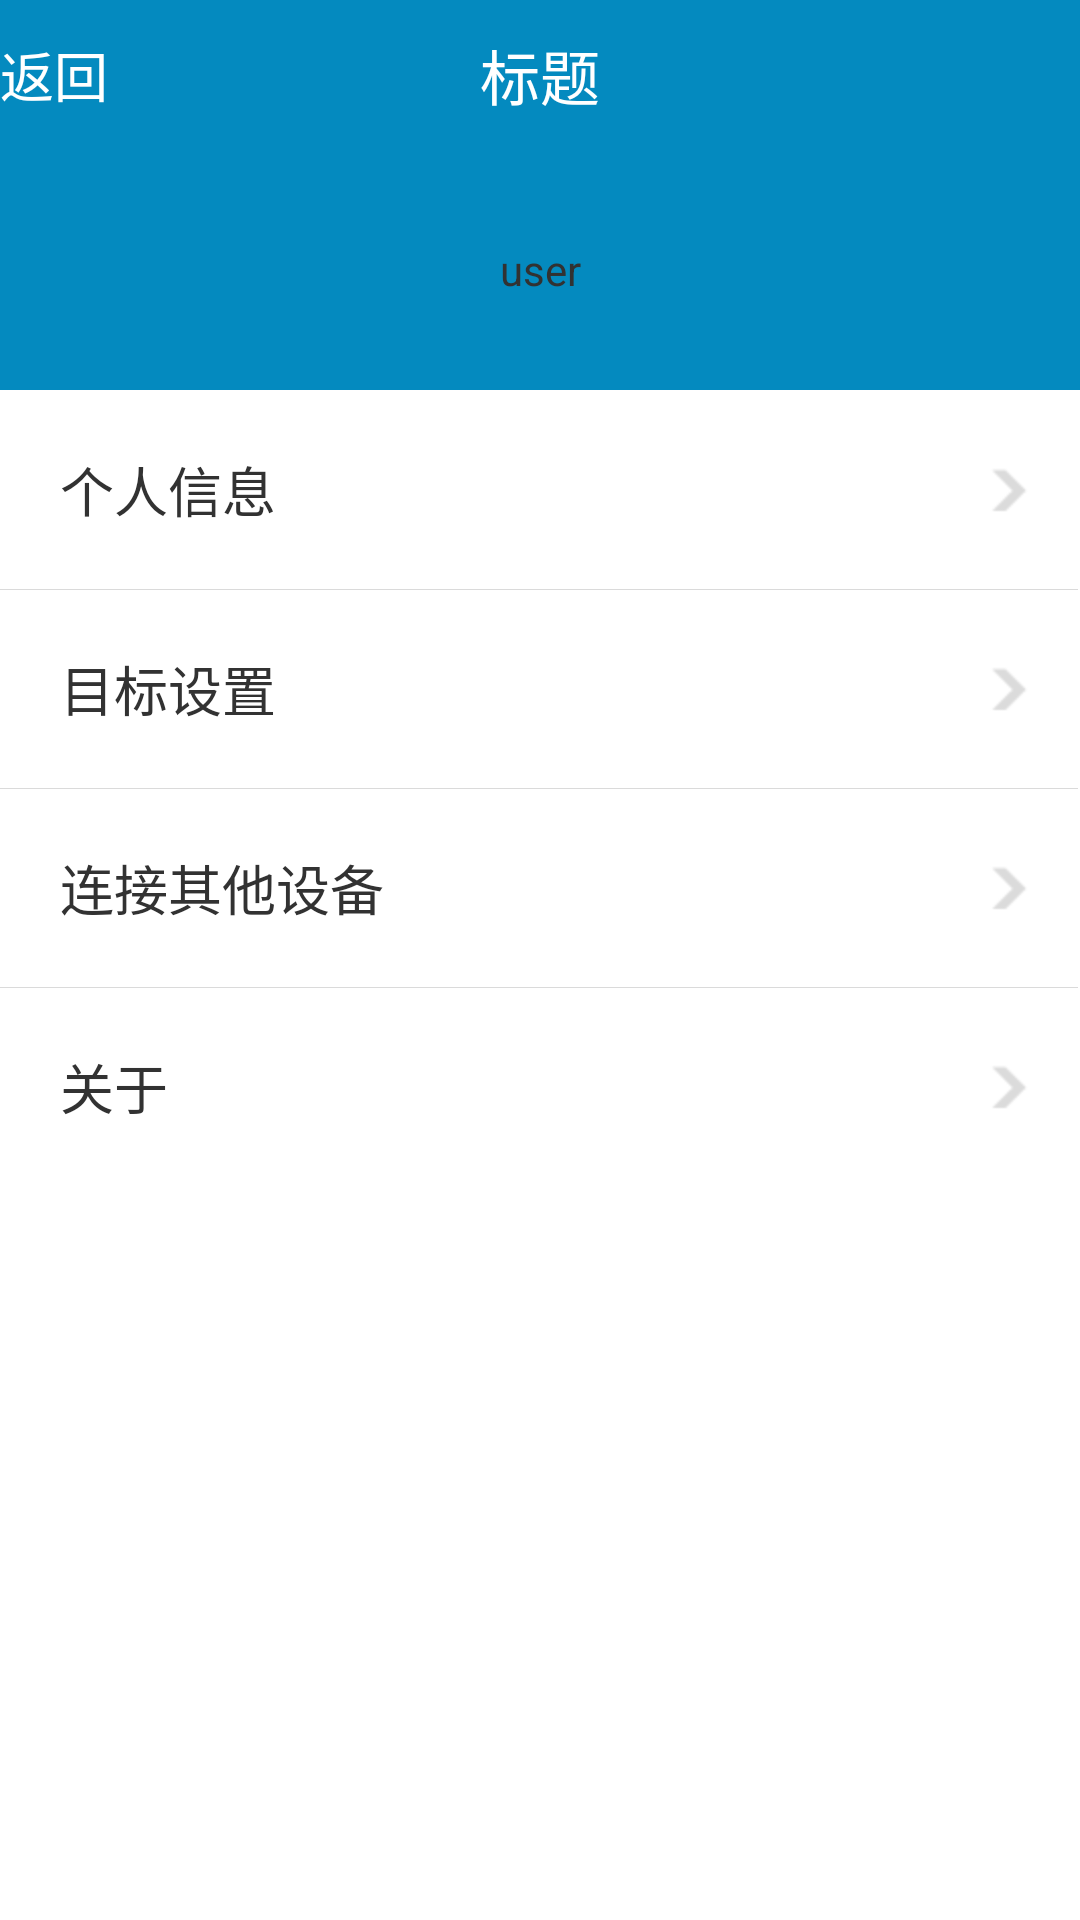

Icons on this 1080px×1920px Android screen, each with its box as [x1, y1, x2, y2]:
submenu: [995, 471, 1025, 511], [995, 670, 1025, 710], [995, 869, 1025, 909], [995, 1068, 1025, 1108]
